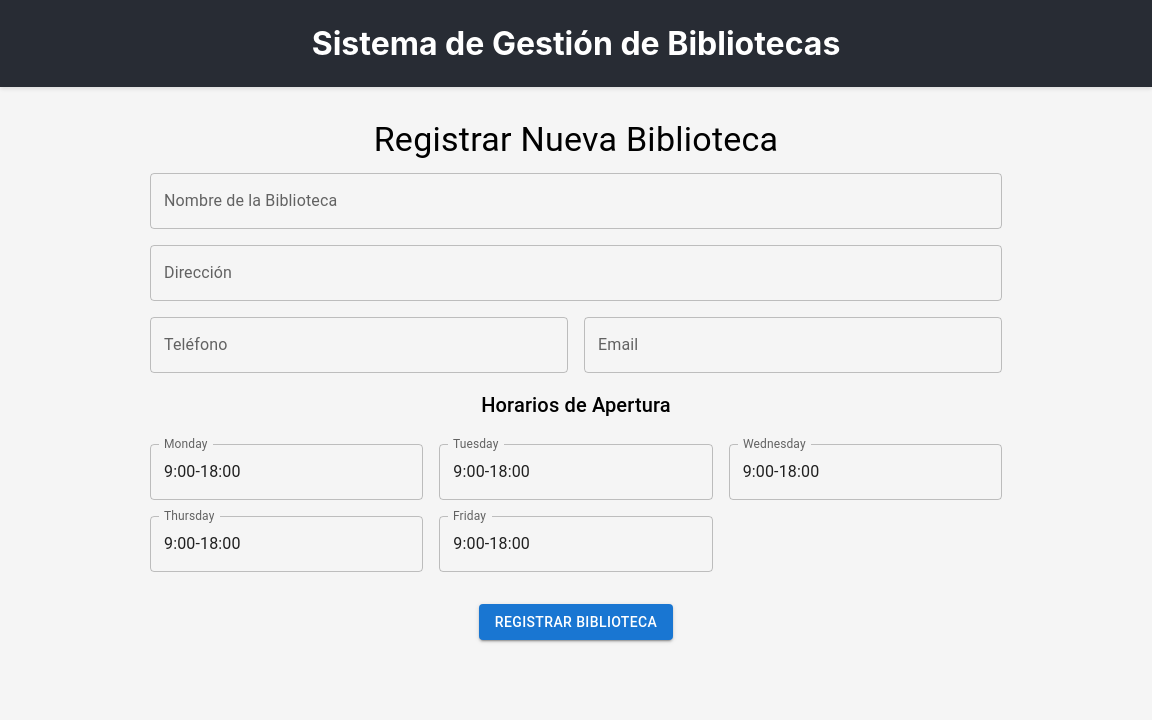
Test: Library Registration Flow › should validate email format
# Intentar registrar con email inválido
In the field named "name": (576,201) [150,173,1002,229], type "Biblioteca Test"
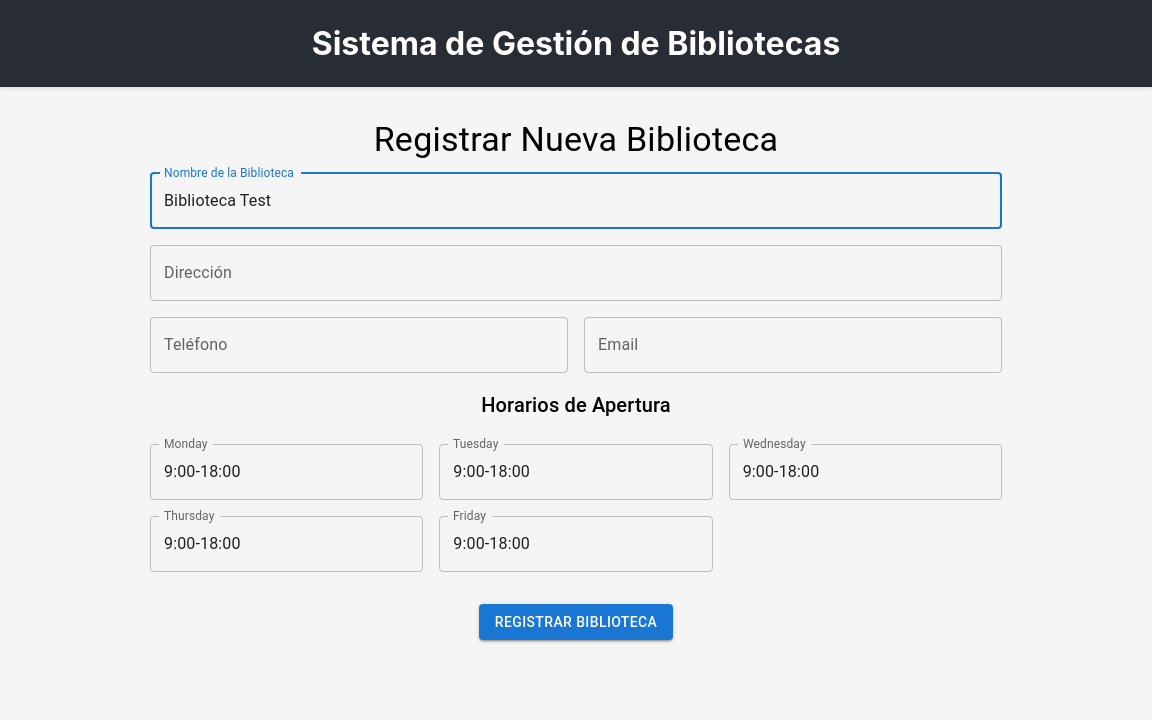
In the field named "address": (576,273) [150,245,1002,301], type "Dirección Test"
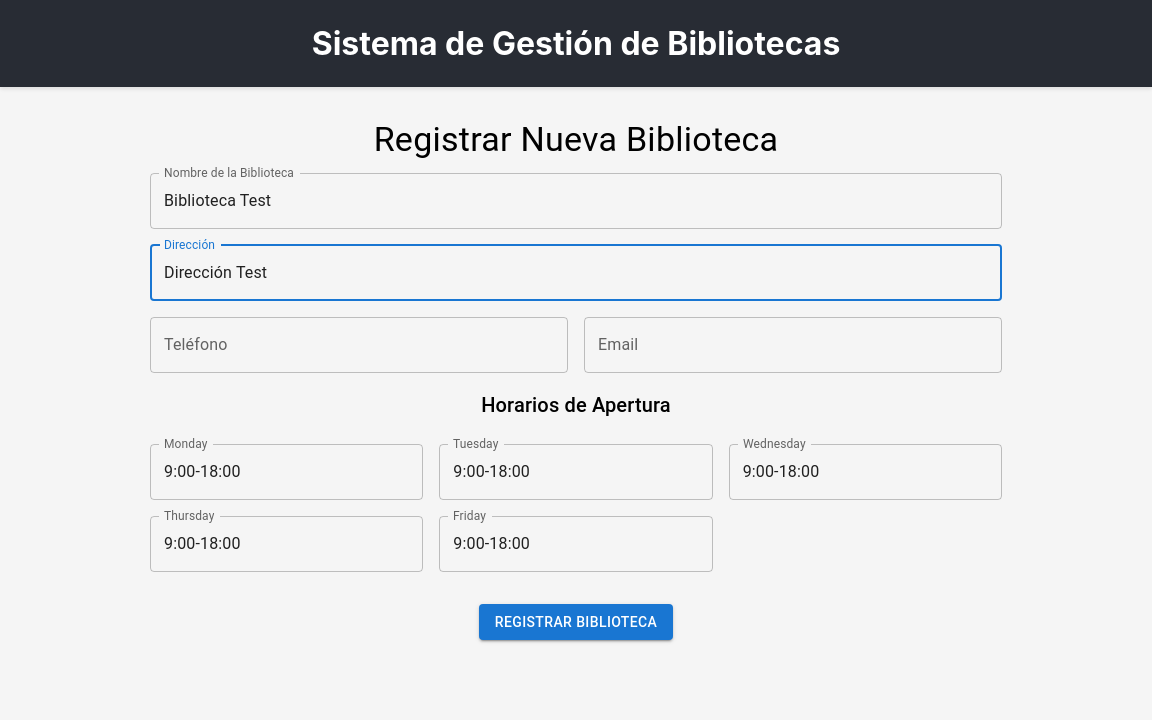
In the field named "phone": (359,345) [150,317,568,373], type "+1234567890"
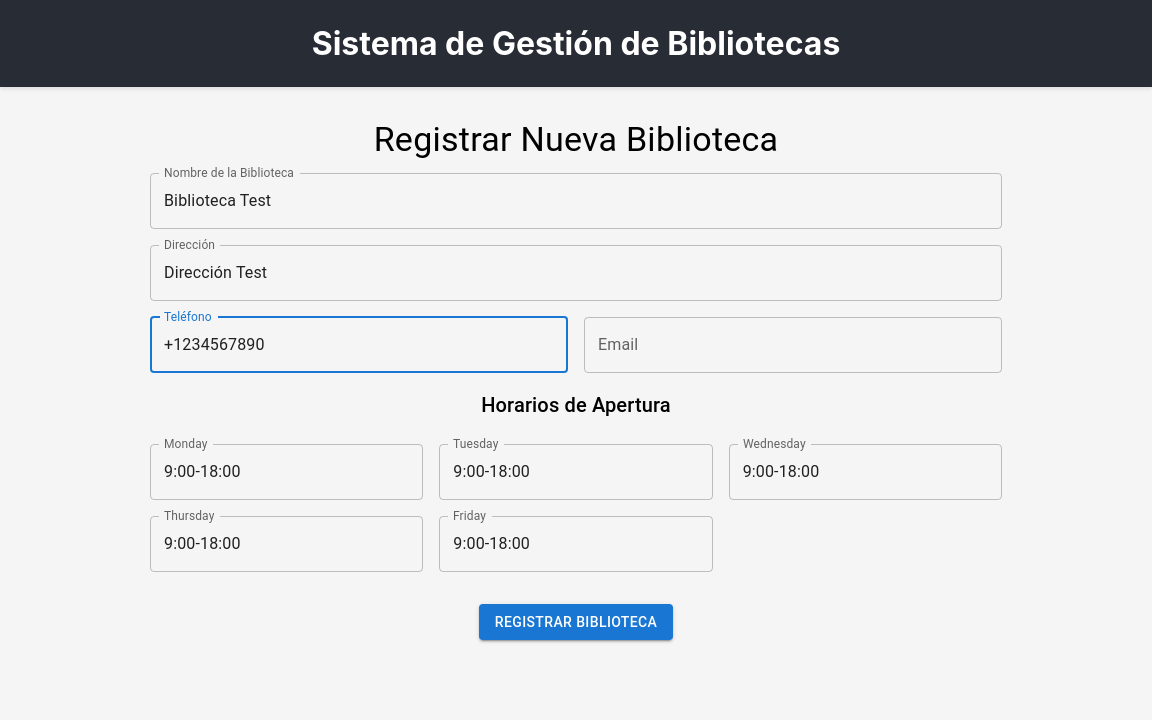
In the field named "email": (793,345) [584,317,1002,373], type "emailinvalido"
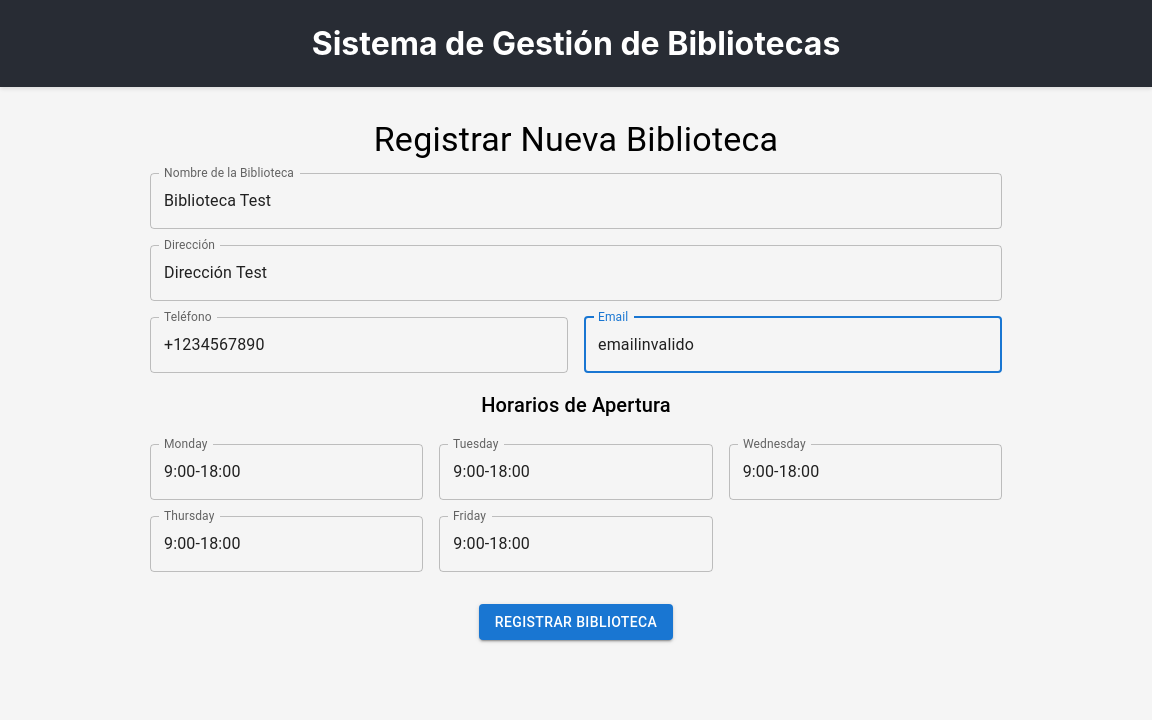
Click the submit button: (577,623) [479,604,674,641]
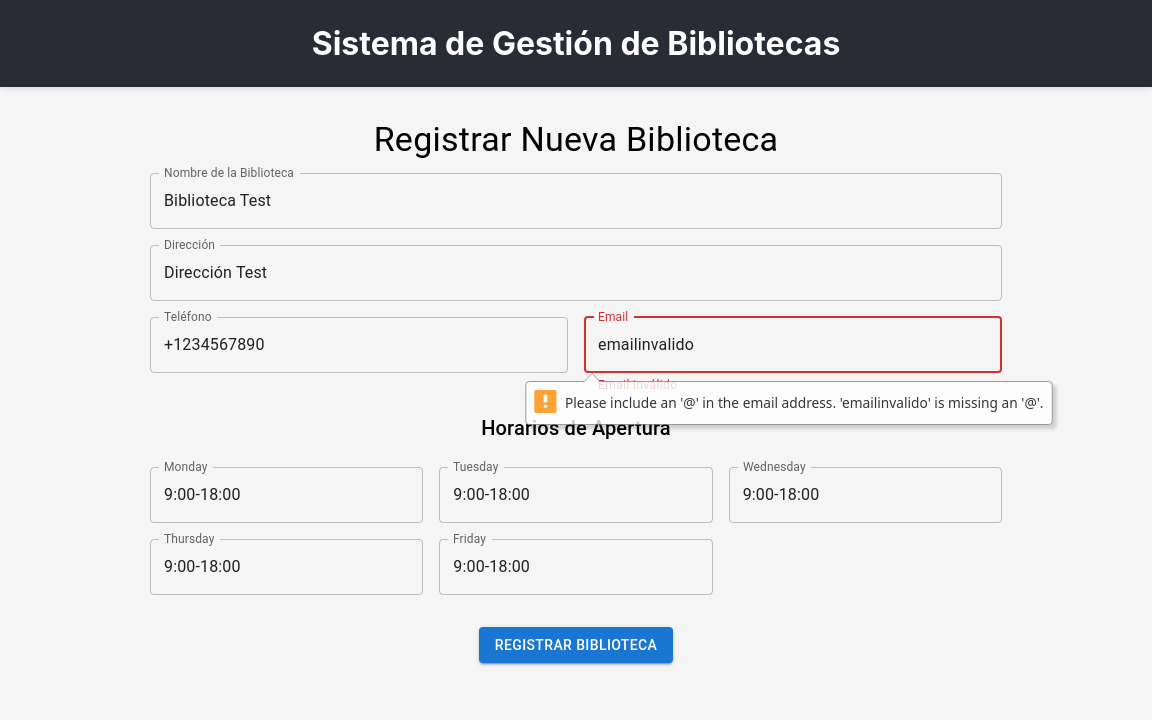
Check: the text "Email inválido" is shown, box [598,378,678,392]
